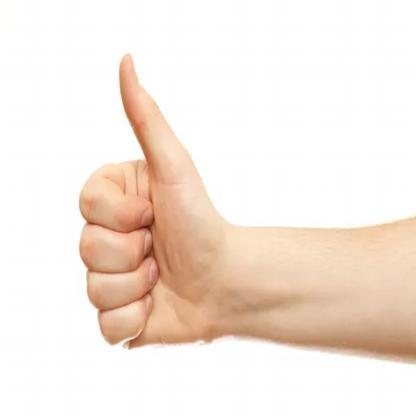thumb_up: (80, 46, 222, 354)
